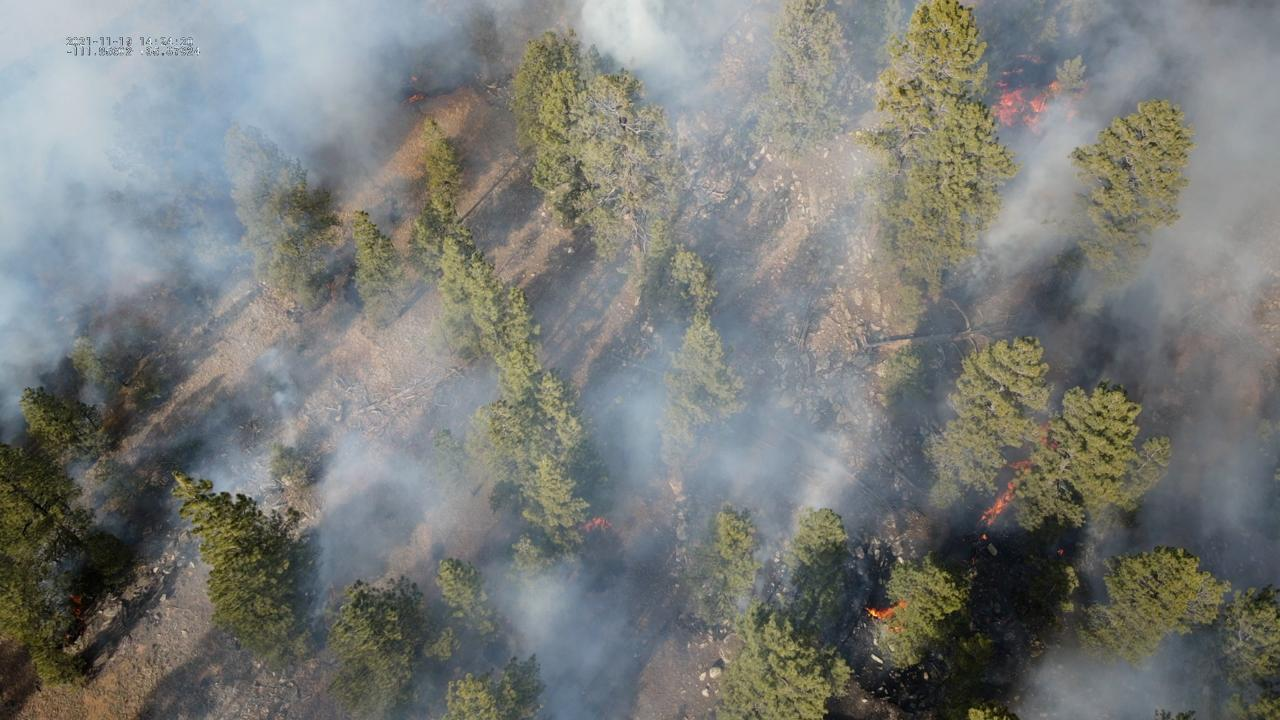fire: (993, 80, 1063, 130), (975, 478, 1017, 528), (862, 599, 907, 633), (1038, 417, 1057, 448), (68, 593, 87, 621), (580, 517, 612, 532), (399, 92, 425, 106), (1007, 460, 1033, 472), (1056, 546, 1066, 558), (977, 533, 988, 541), (1014, 67, 1024, 74), (1000, 71, 1010, 76), (411, 76, 419, 82)
smoke: (0, 0, 1280, 720)
